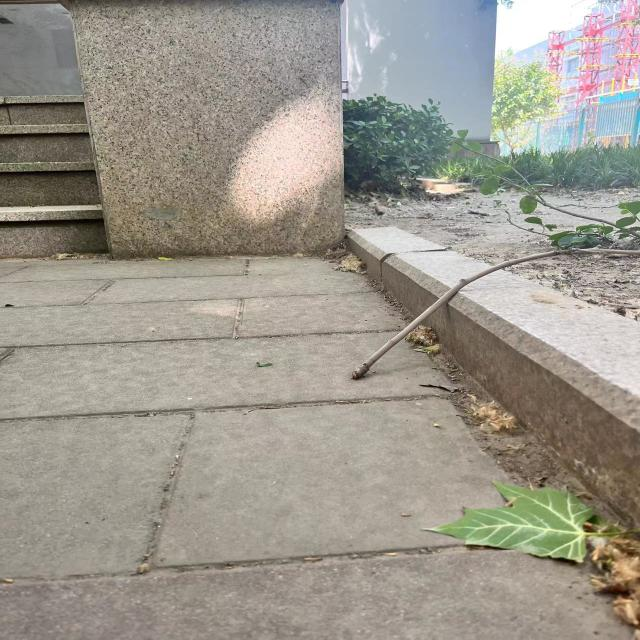curb: (351, 223, 640, 569)
